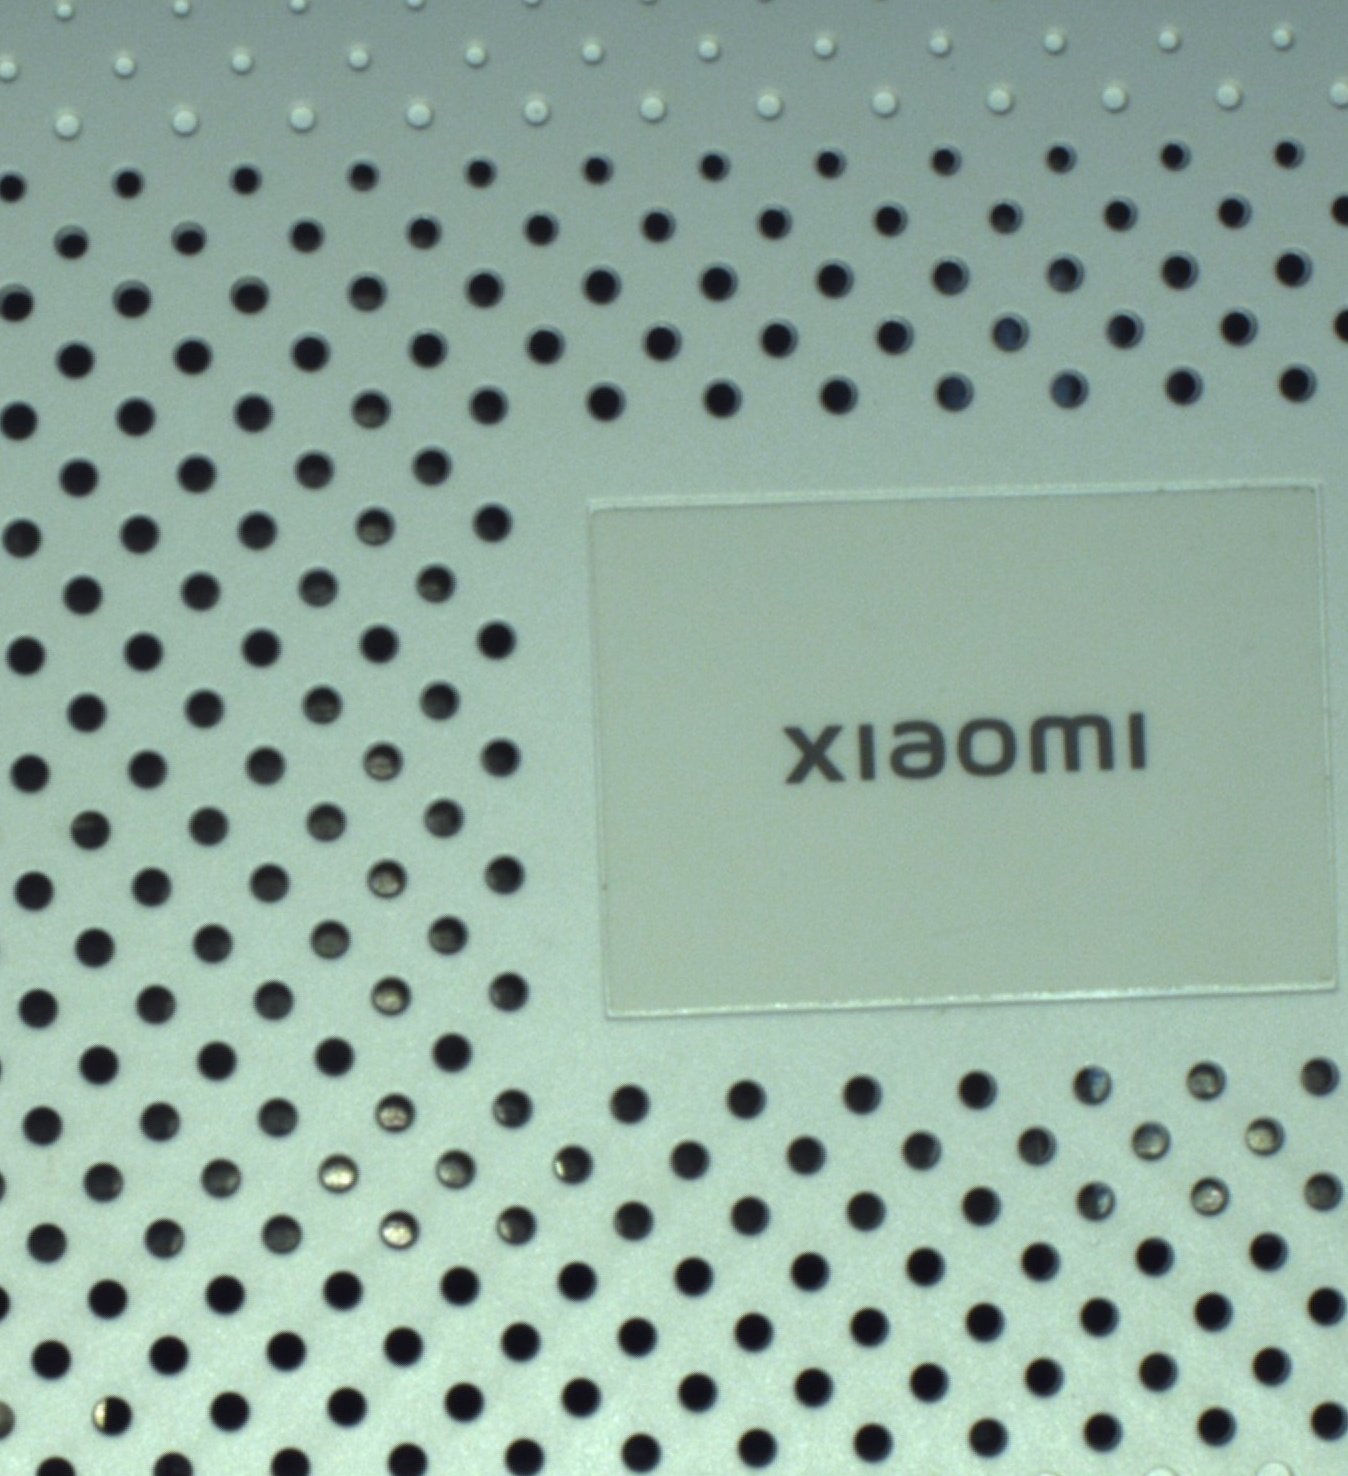MAB_OldUnicom: (761, 693, 1156, 806)
